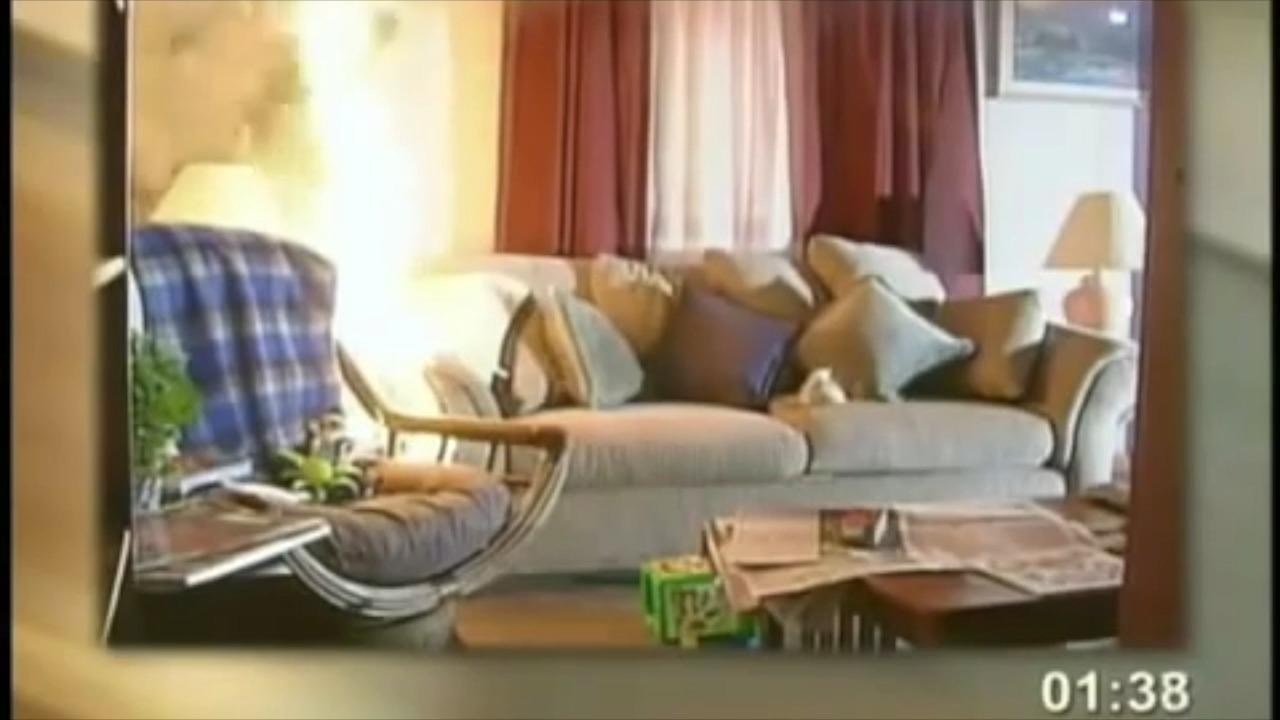fire: (292, 39, 472, 456)
